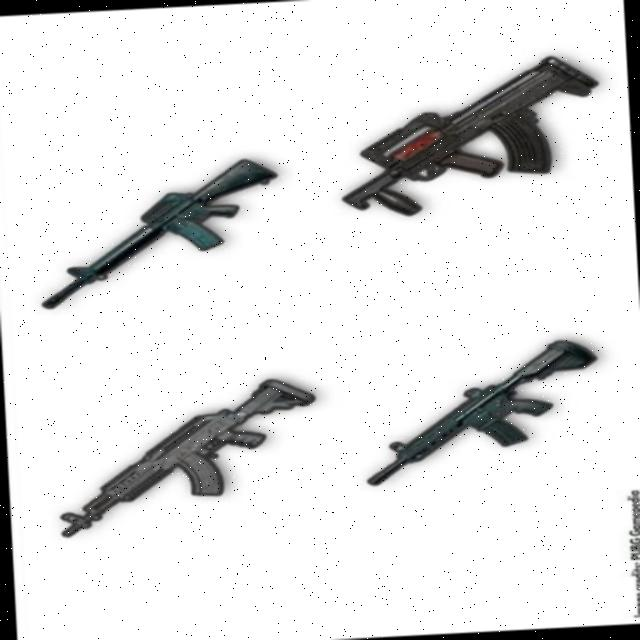Automaticrifle: (42, 374, 324, 544), (334, 52, 608, 222), (34, 158, 284, 308), (358, 338, 602, 487)
